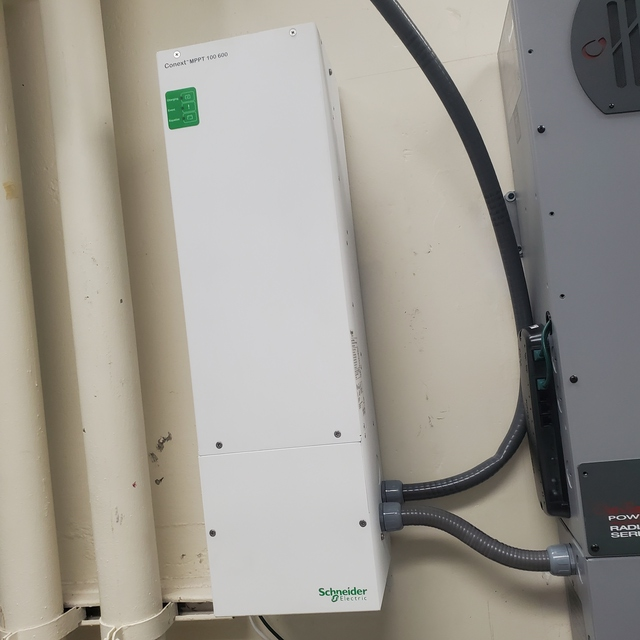charge_controller: (157, 21, 397, 616)
